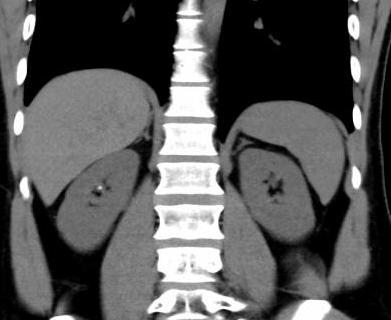Tas_Var: (98, 184, 102, 191)
